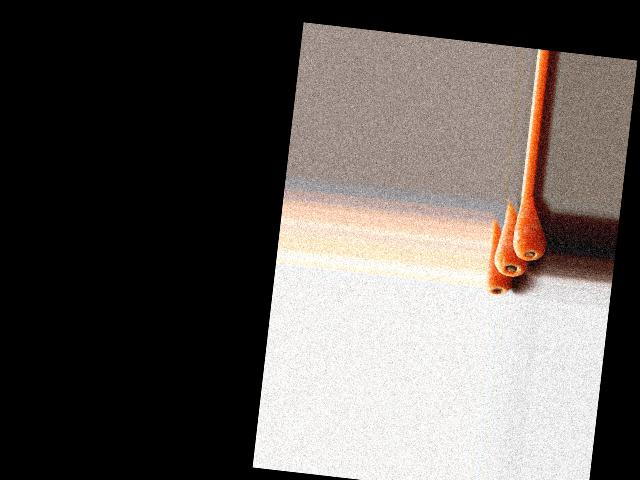carrot: (485, 218, 521, 287)
